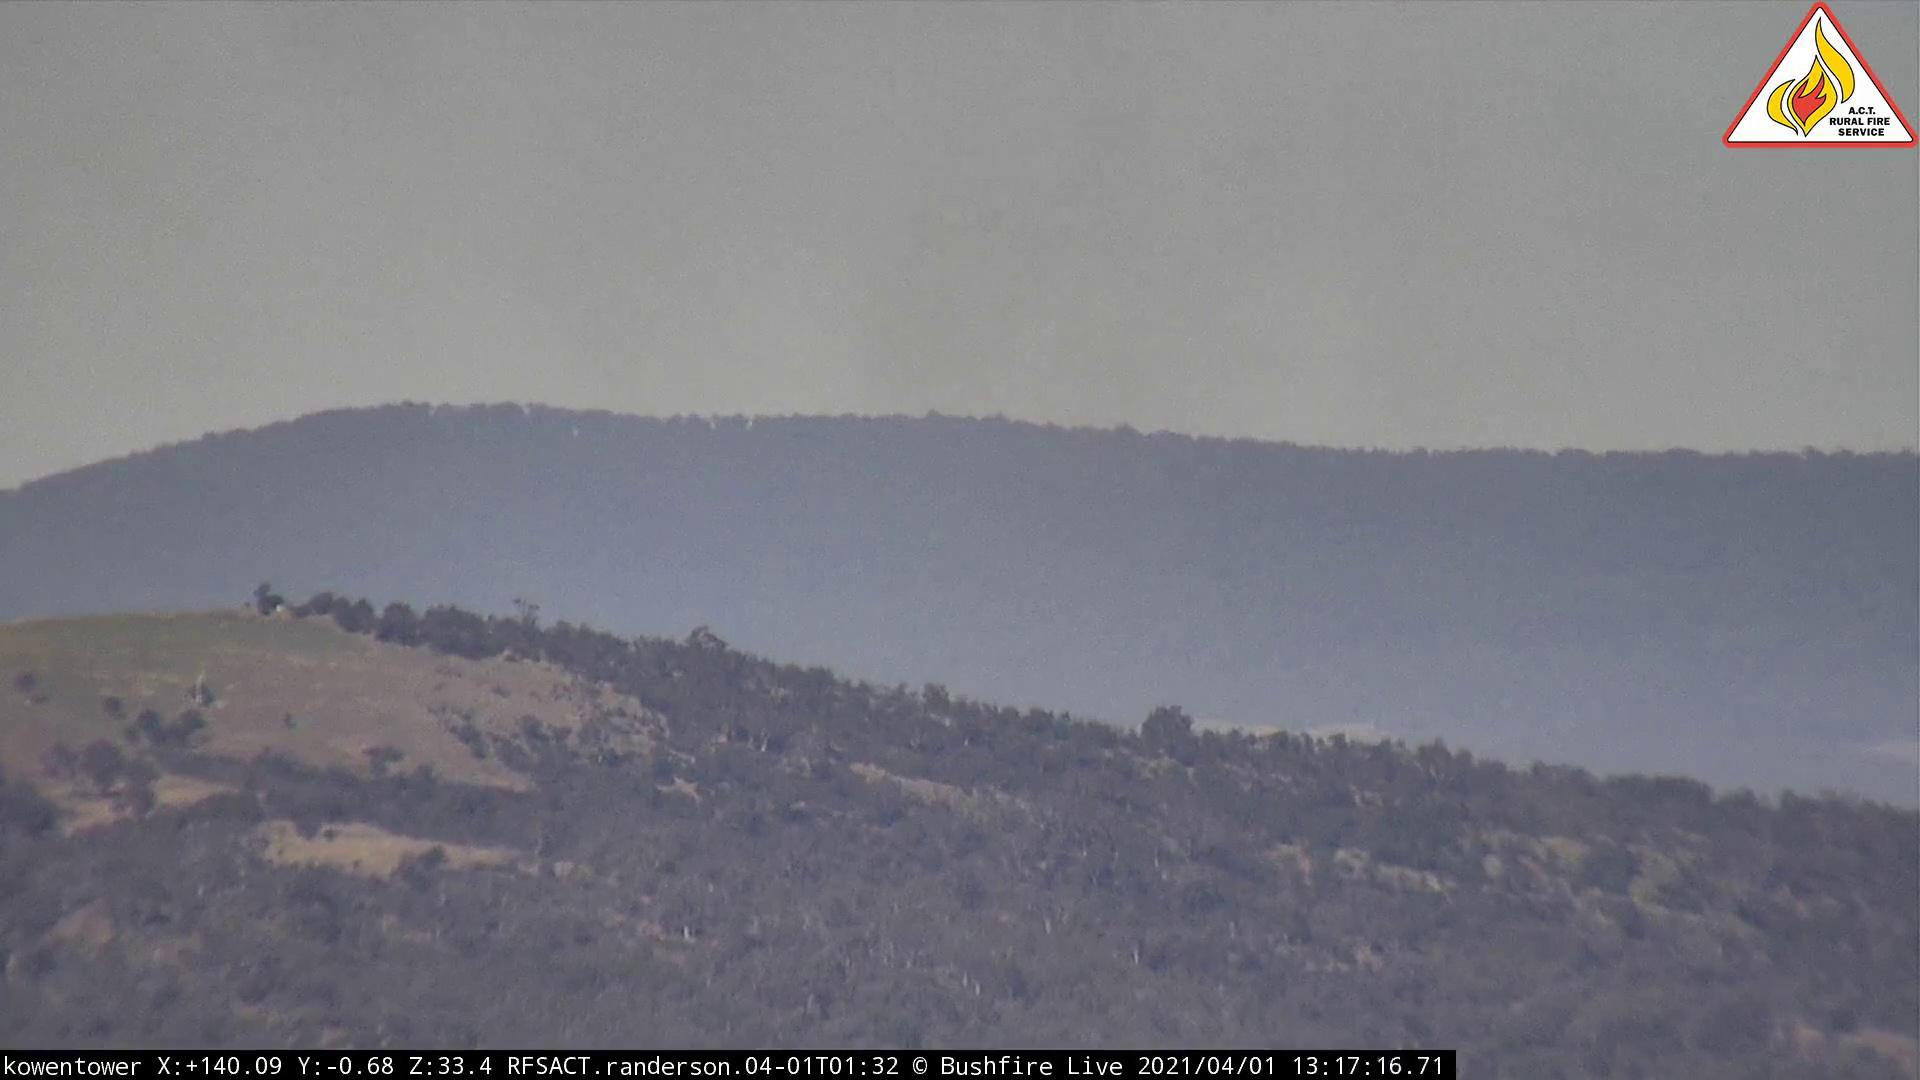Smoke: (708, 75, 1701, 765)
